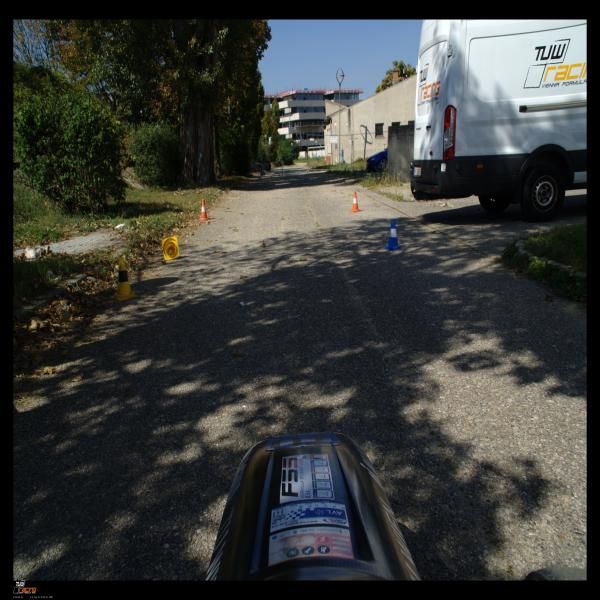blue_cone: (384, 220, 402, 250)
orange_cone: (350, 192, 361, 212), (200, 199, 209, 220)
yellow_cone: (110, 258, 138, 300), (162, 236, 180, 261)
